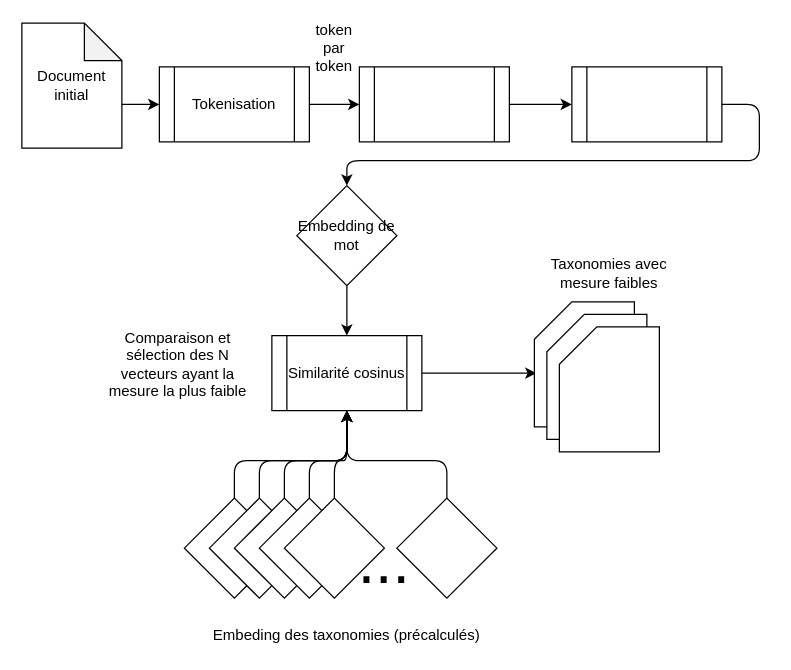
This 791x670 diagram has some shape labels left out. The shapes that lost their labels are listed below. From the top down, each one's centre as x and y in pixels, then its label:
pixel 433 104: Lemmatization et suppression des stopwords
pixel 646 104: Word2vec
